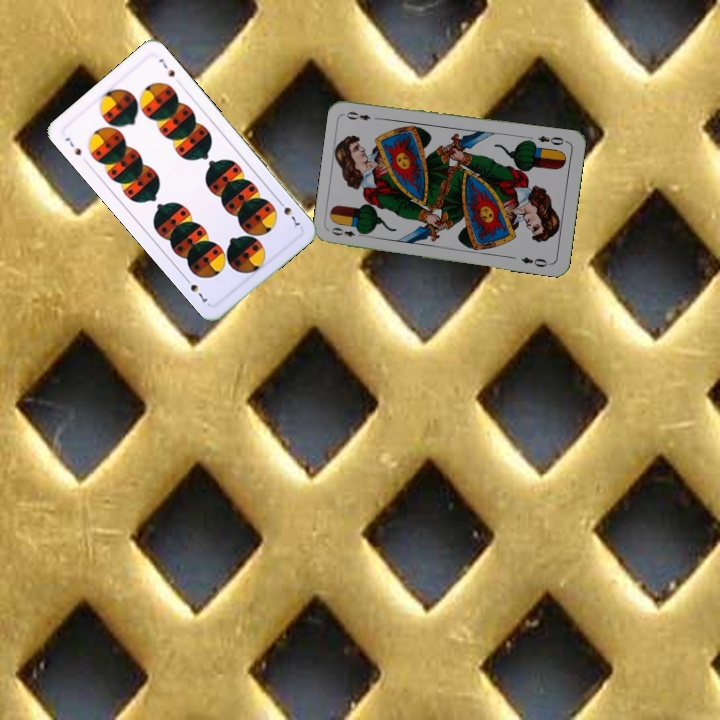EO: (327, 223, 367, 240), (534, 131, 570, 148)
S7: (274, 195, 302, 230), (61, 133, 84, 158)
